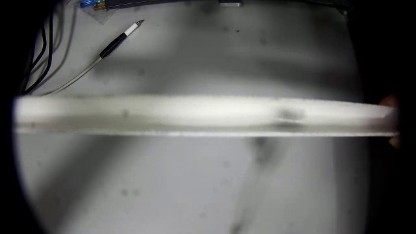gangzhu: (274, 106, 302, 127)
